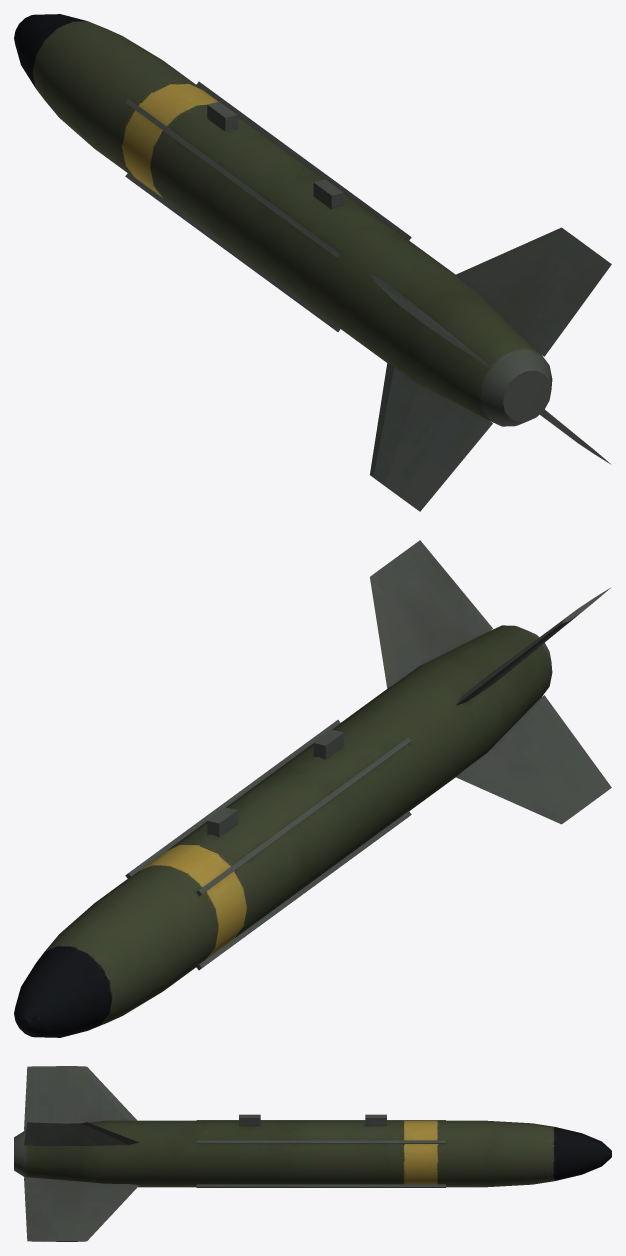
Rendered from guided_bomb.glb.
3 views of the same model, one above another, from view 1: azimuth 30°, elevation 25°; view 2: azimuth 150°, elevation 25°; view 3: azimuth 270°, elevation 25° (orthographic). The views are drawn at different scales.
Parts seen in each view (by area): view 1: lod0; view 2: lod0; view 3: lod0.
Boxes of the visible parts, left/top/right/bottom form: lod0: left=14, top=14, right=611, bottom=511; lod0: left=14, top=540, right=611, bottom=1037; lod0: left=14, top=1066, right=611, bottom=1241.
Size of what is drawn, in the model's own units: 0.8046 by 0.8046 by 3.6.
1 material, 1 textured.
